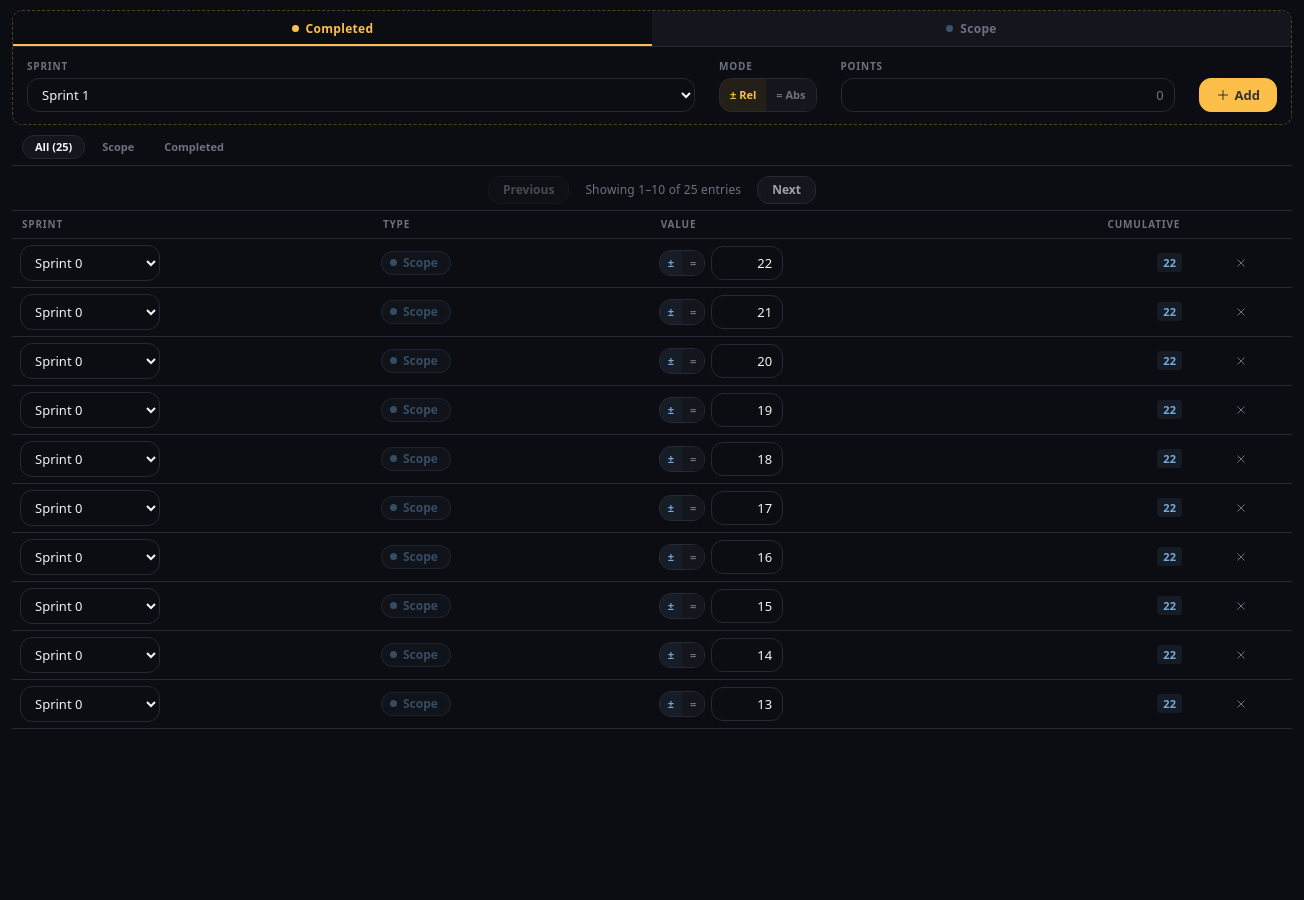
Test: DataTable › pagination › resets to page 1 when filter type changes
The image size is (1304, 900).
# Navigate to page 2
Step 1. Click the button with aria-label "Next page" → [787, 190], box [757,176,816,204]
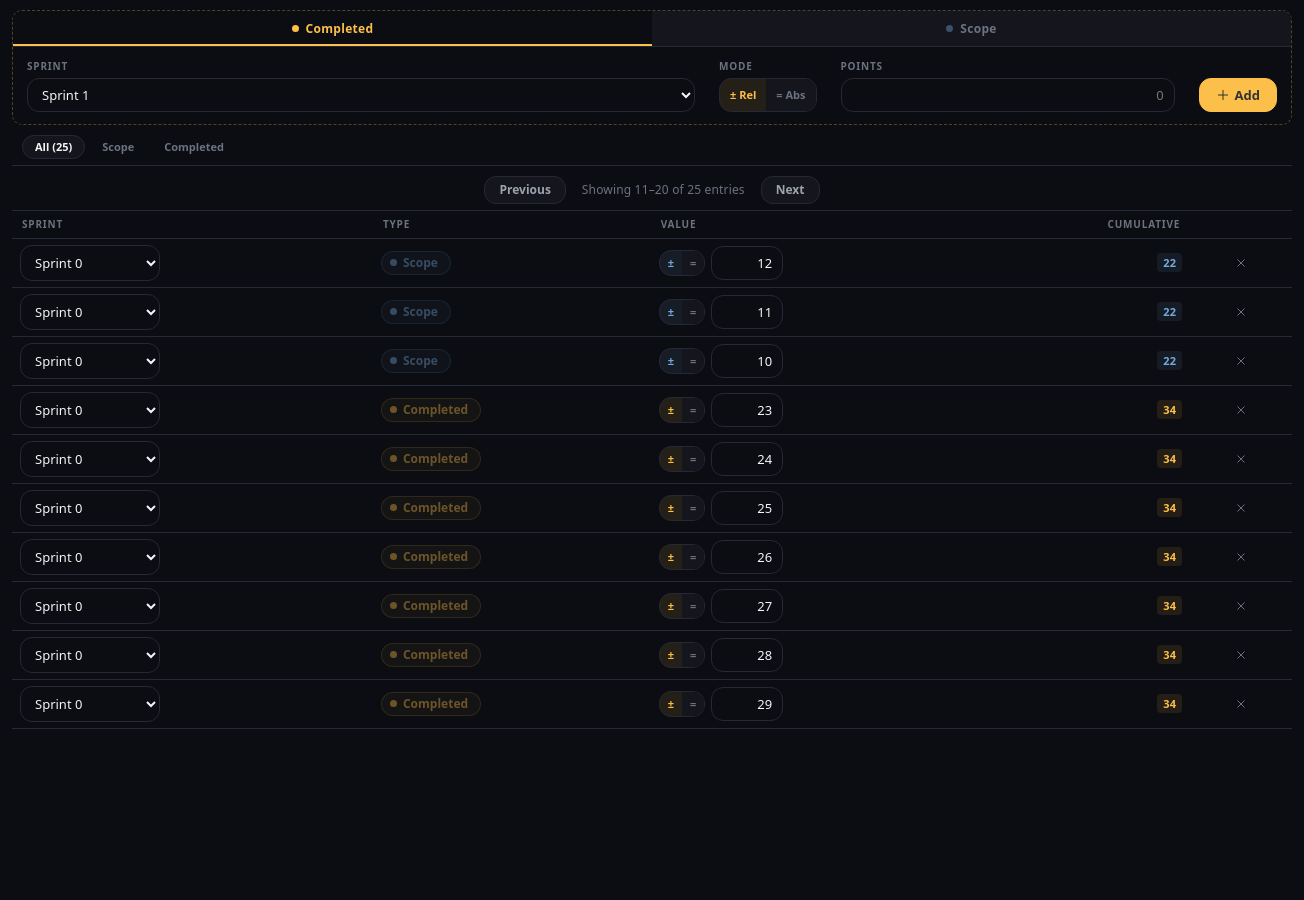
Result: the text "Showing 11–20 of 25 entries" is shown at [582,181,745,199]
Step 2. Click the button with aria-label "Show only Scope entries" → [118, 147], box [89,135,147,159]
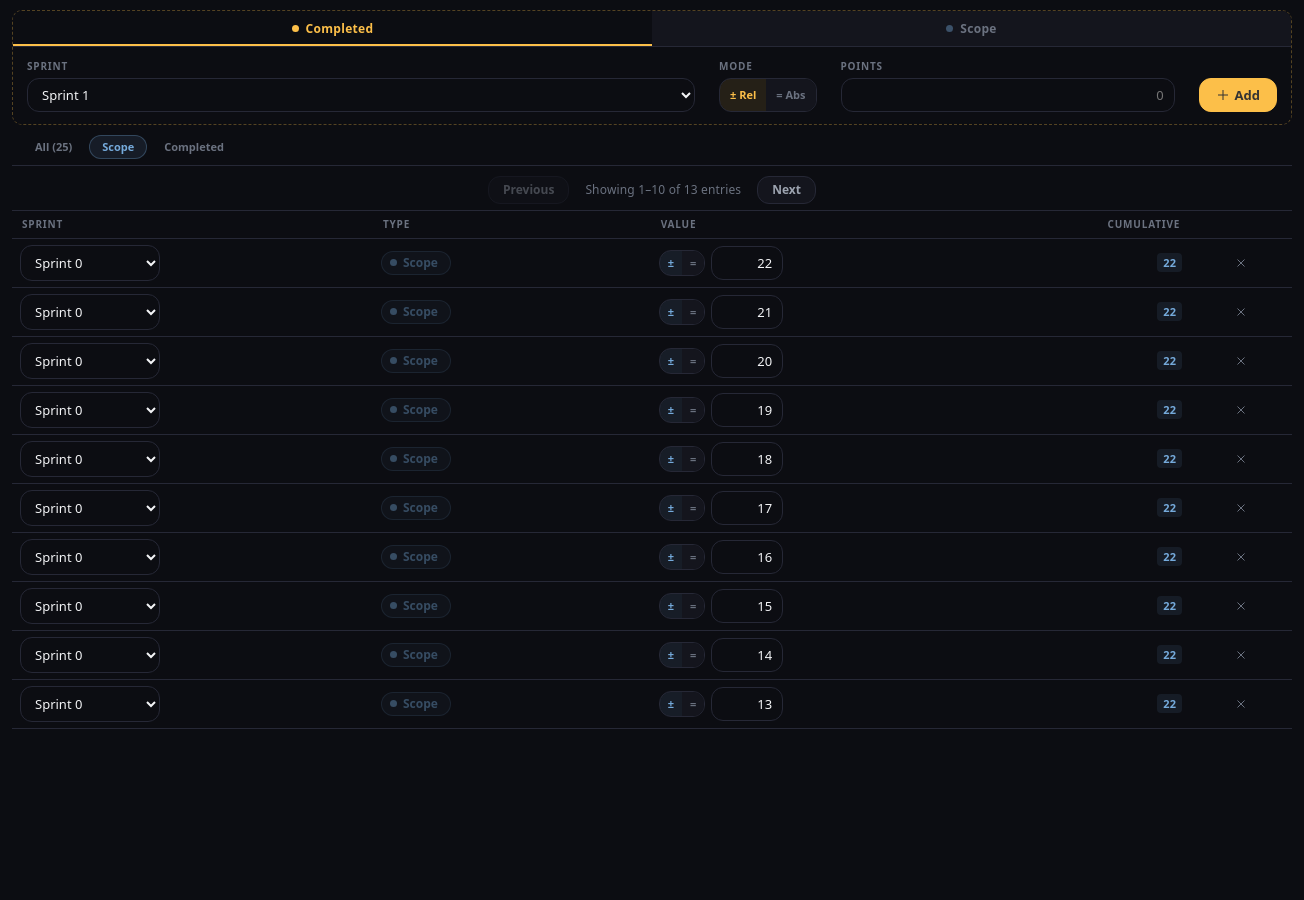
Result: the text "Showing 1–10 of 13 entries" is shown at [585,181,741,199]
Result: the button with aria-label "Previous page" is disabled at [488,176,569,204]
